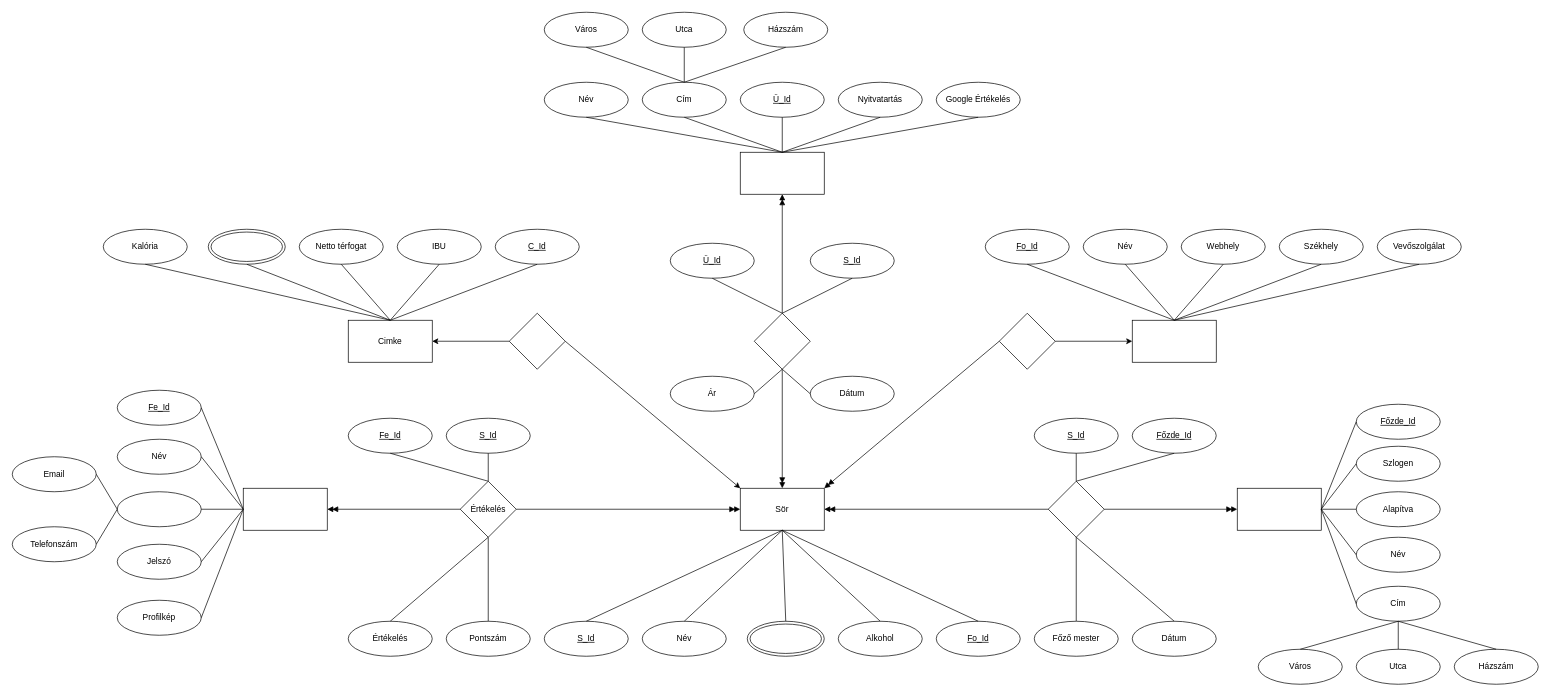
Some shapes in this 1551 by 697 pixel diagram are drawn without their labels. Each missing label, with the centre of its shape:
"Elérhetőség" belongs at (x=159, y=509).
"Felhasználó" belongs at (x=285, y=509).
"Forgalmazó" belongs at (x=1174, y=341).
"Főzde" belongs at (x=1279, y=509).
"Főzés" belongs at (x=1076, y=509).
"Műfaj" belongs at (x=785, y=638).
"S-C" belongs at (x=537, y=341).
"S-Fo" belongs at (x=1027, y=341).
"Vásárlás" belongs at (x=782, y=341).
"Összetevők" belongs at (x=246, y=246).
"Üzlet" belongs at (x=782, y=173).
